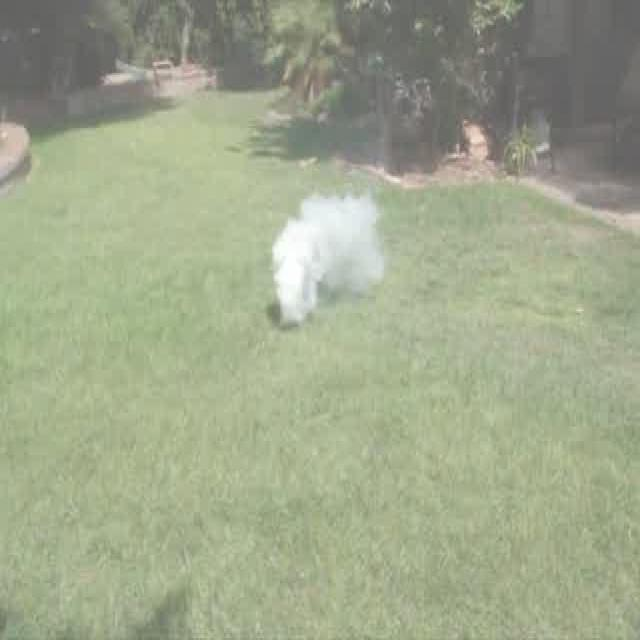Smoke: (270, 184, 386, 330)
